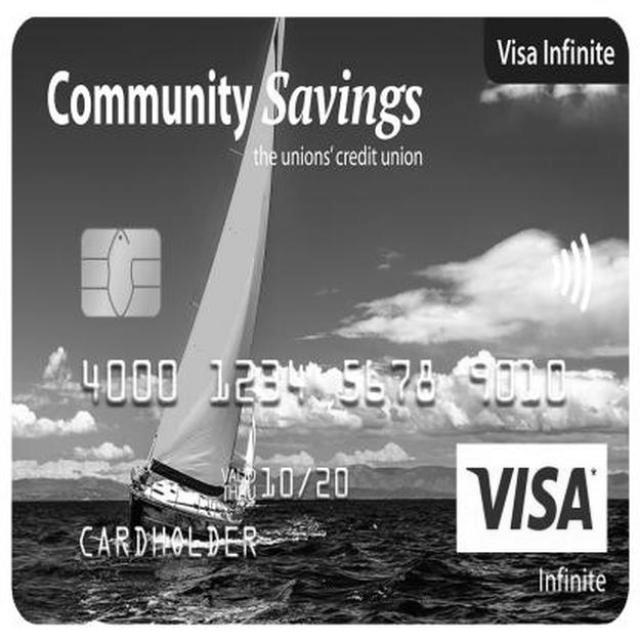card: (14, 20, 626, 624)
